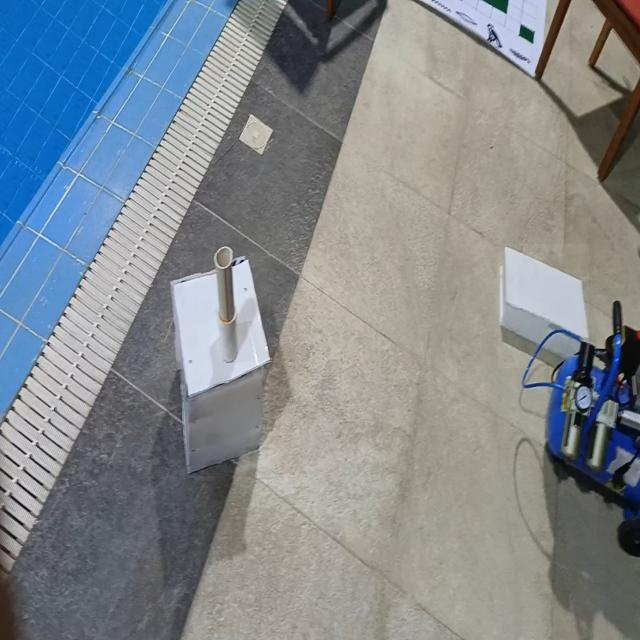Cube: (170, 253, 272, 478)
Cuboid: (498, 244, 589, 368)
